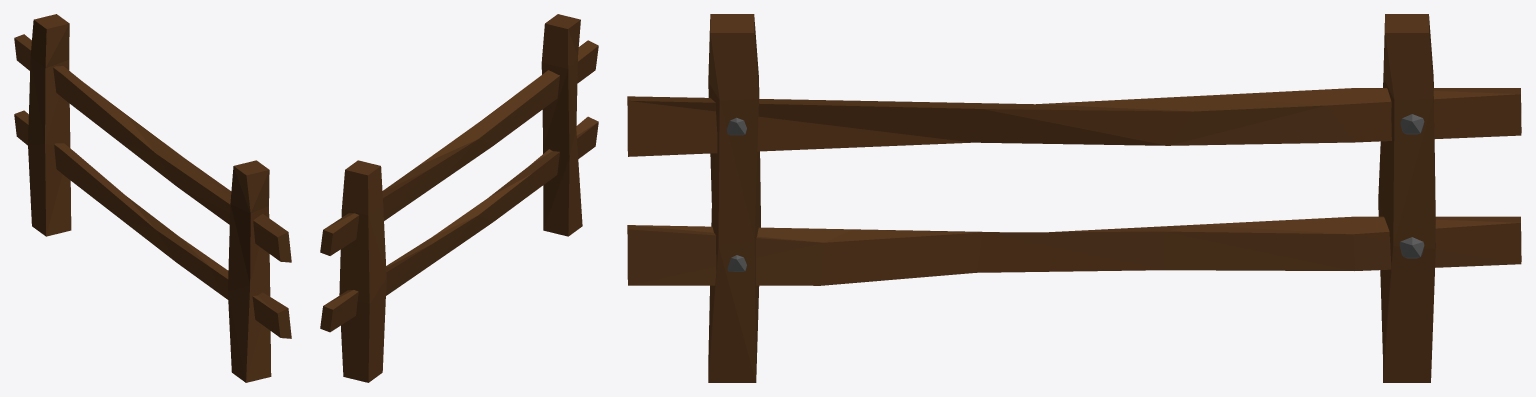
File: line_fense.dae
3 views of the same model, side by side, from view 1: azimuth 30°, elevation 25°; view 2: azimuth 150°, elevation 25°; view 3: azimuth 270°, elevation 25° (orthographic). The views are drawn at different scales.
Parts seen in each view (by area): view 1: Cube_001, Cube, Cube_002, Cube_003; view 2: Cube_001, Cube_002, Cube, Cube_003; view 3: Cube_003, Cube_002, Cube_001, Cube.
Boxes of the visible parts, left/top/right/bottom form: Cube_001: left=28, top=14, right=71, bottom=236; Cube: left=228, top=160, right=271, bottom=382; Cube_002: left=14, top=34, right=291, bottom=262; Cube_003: left=14, top=110, right=291, bottom=338; Cube_001: left=339, top=160, right=386, bottom=382; Cube_002: left=320, top=40, right=598, bottom=255; Cube: left=541, top=14, right=582, bottom=236; Cube_003: left=320, top=116, right=598, bottom=332; Cube_003: left=627, top=216, right=1521, bottom=285; Cube_002: left=627, top=88, right=1521, bottom=156; Cube_001: left=1378, top=14, right=1435, bottom=382; Cube: left=708, top=14, right=760, bottom=382.
Size of the model in its own units: 0.1072 by 0.6187 by 1.44.
